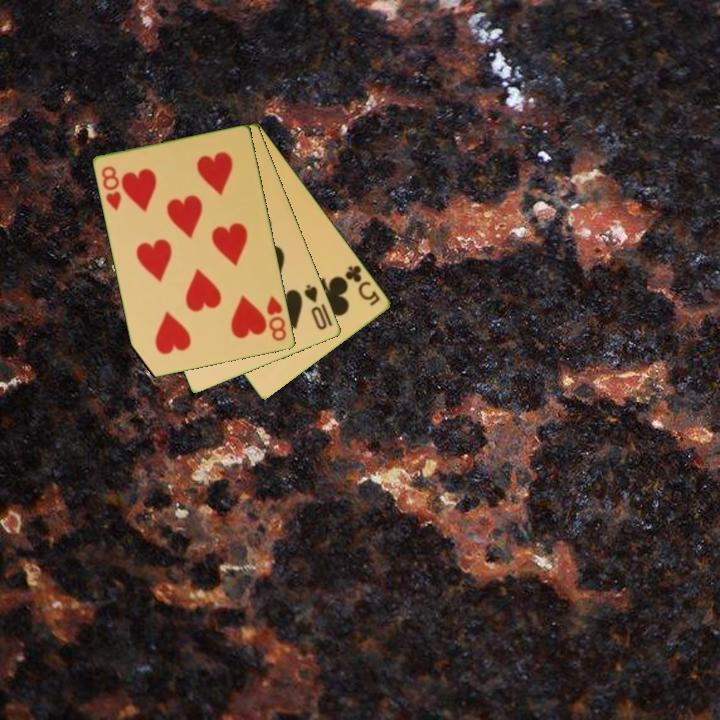10s: (301, 281, 330, 333)
5c: (342, 262, 384, 309)
8h: (263, 292, 290, 344), (98, 162, 125, 214)
